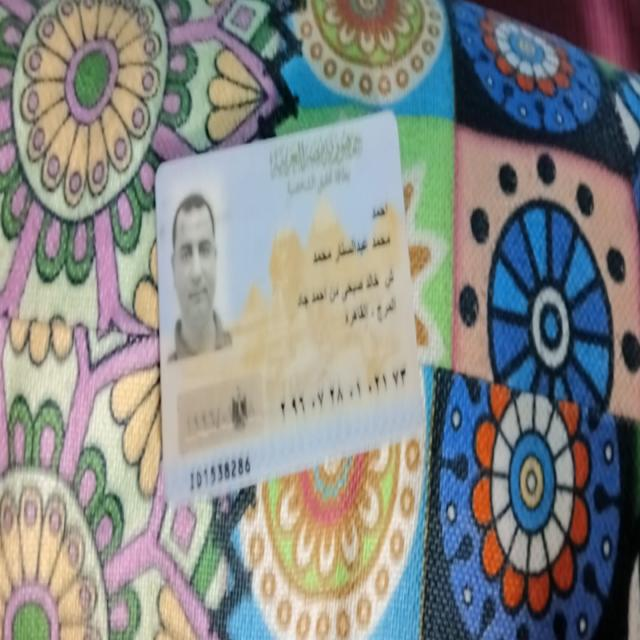ID-cards: (152, 100, 429, 520)
